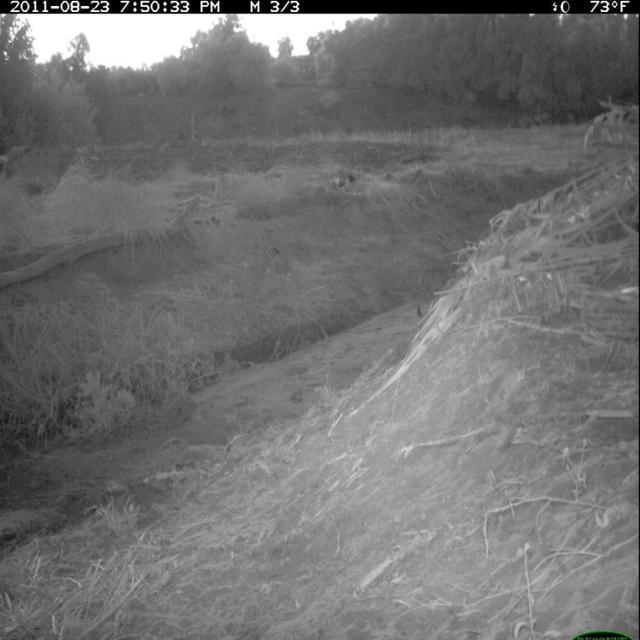bobcat: (412, 237, 466, 318)
